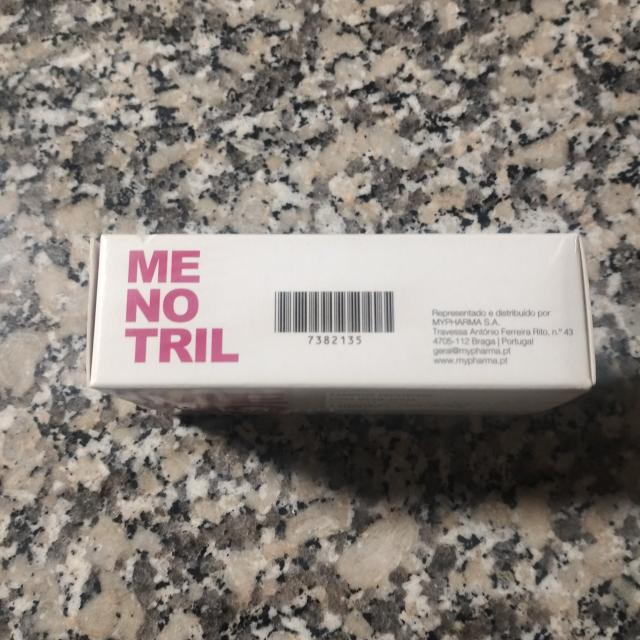box: (88, 235, 592, 417)
